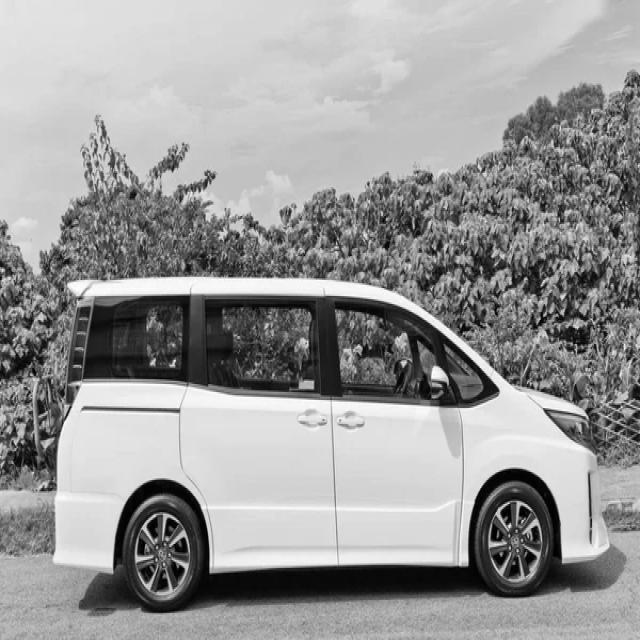Car: (54, 278, 612, 610)
